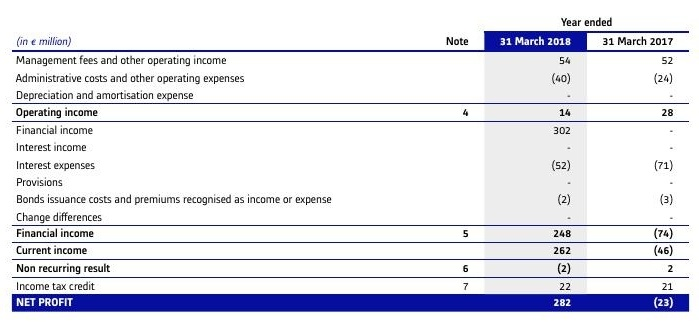table: (0, 0, 699, 322)
